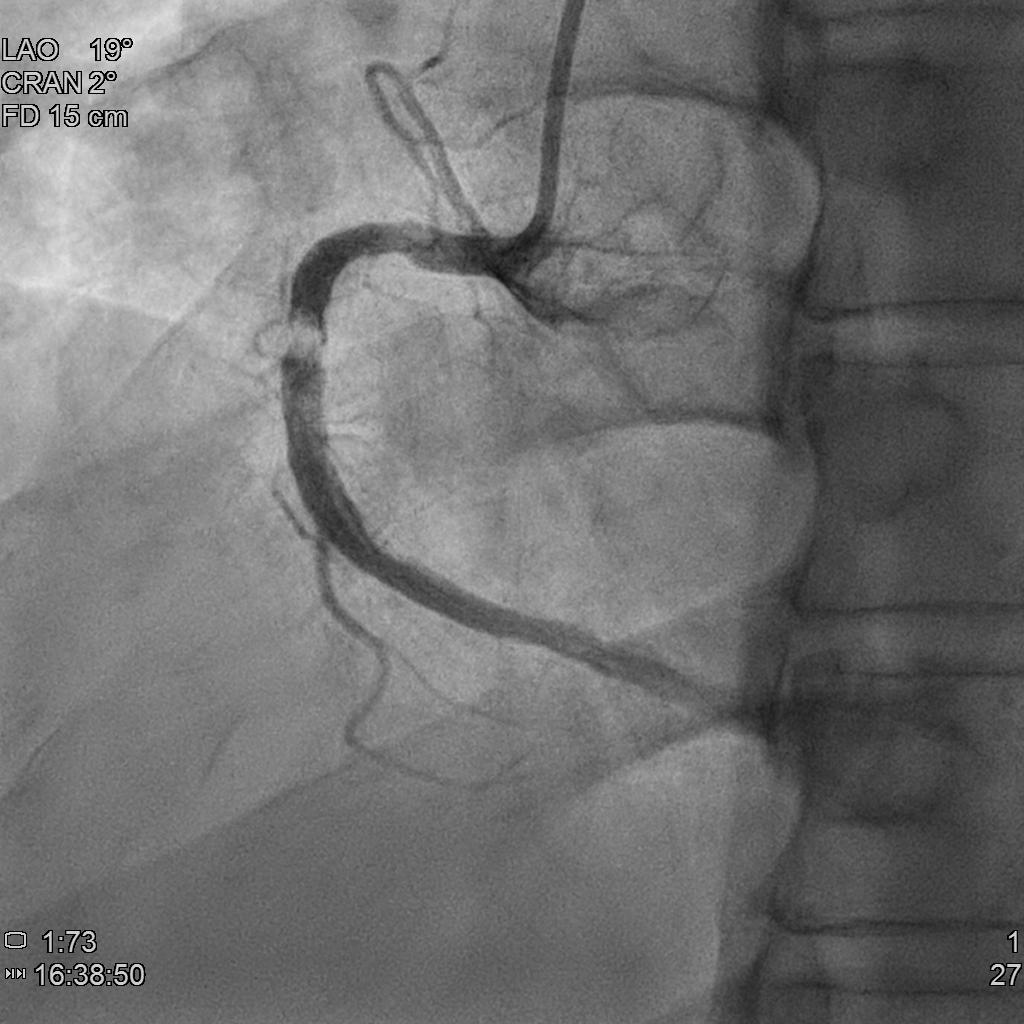block: (236, 278, 360, 396)
